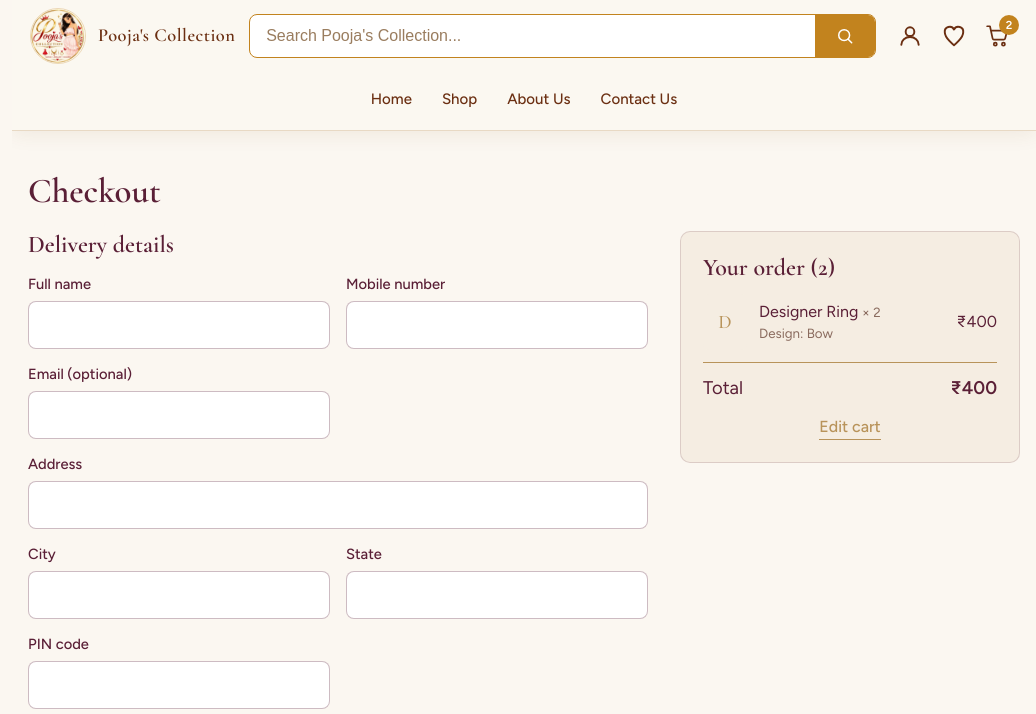
Test: products with designs › carries the design into the order
The width and height of the screenshot is (1036, 714).
Expected: the text "Design: Bow" is shown, [759, 325, 833, 341]
Type "Asha" into the field labelled "Full name". click: [179, 325]
box: [28, 301, 330, 349]
Type "9876543210" into the field labelled "Mobile number". click: [497, 325]
box: [346, 301, 648, 349]
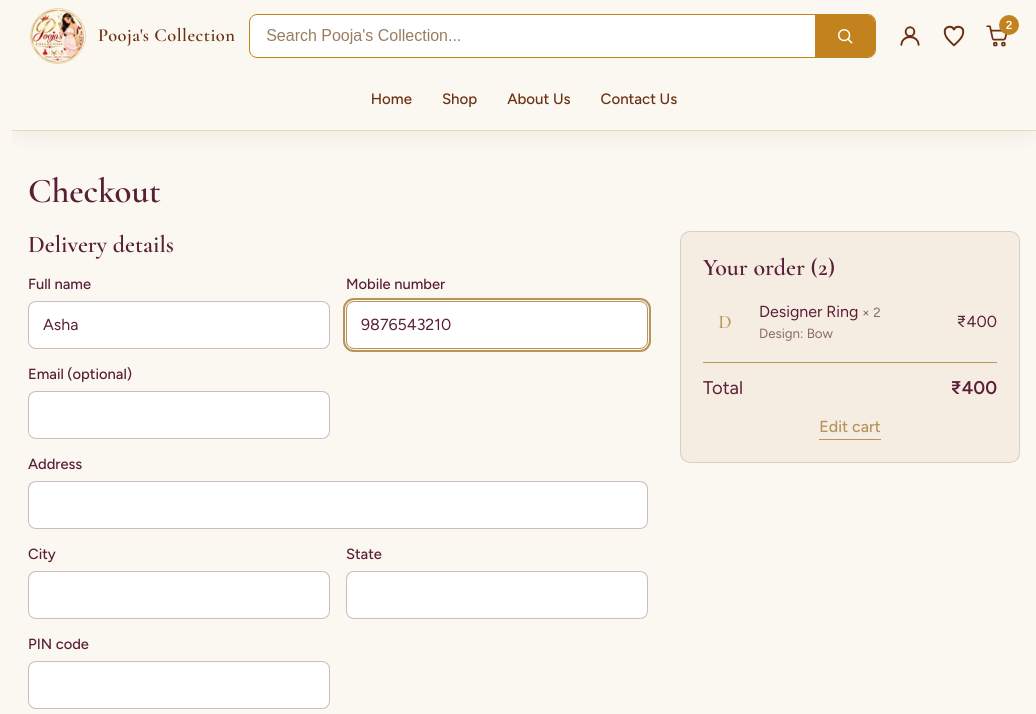
Type "1 St" into the field labelled "Address". click: [338, 505]
box: [28, 481, 648, 529]
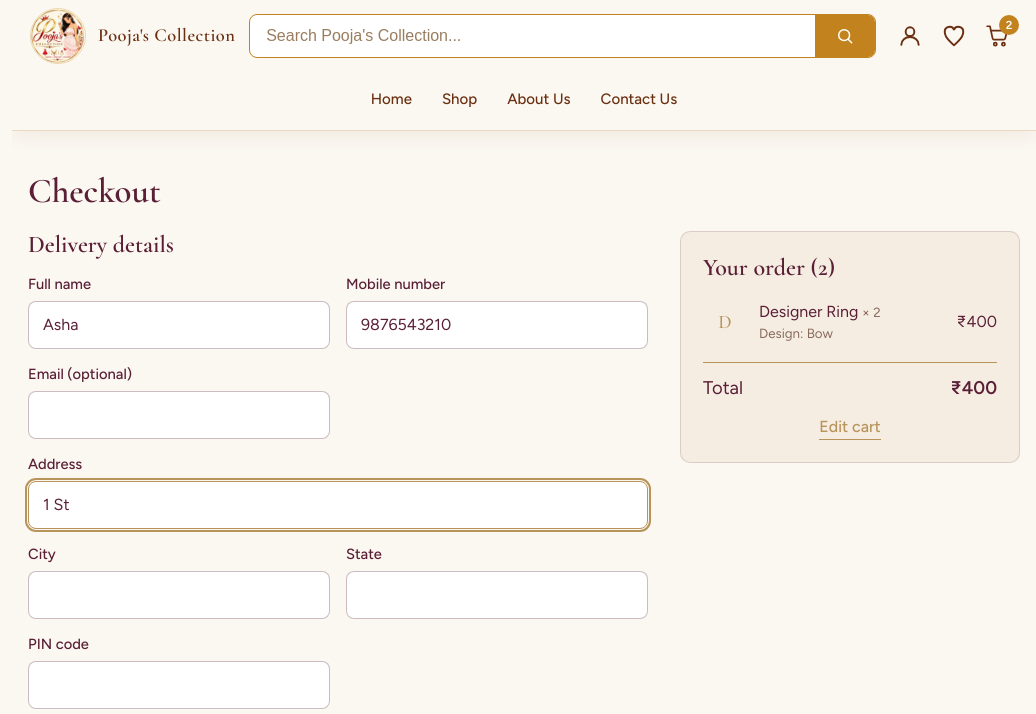
Type "Chennai" into the field labelled "City". click: [179, 595]
box: [28, 571, 330, 619]
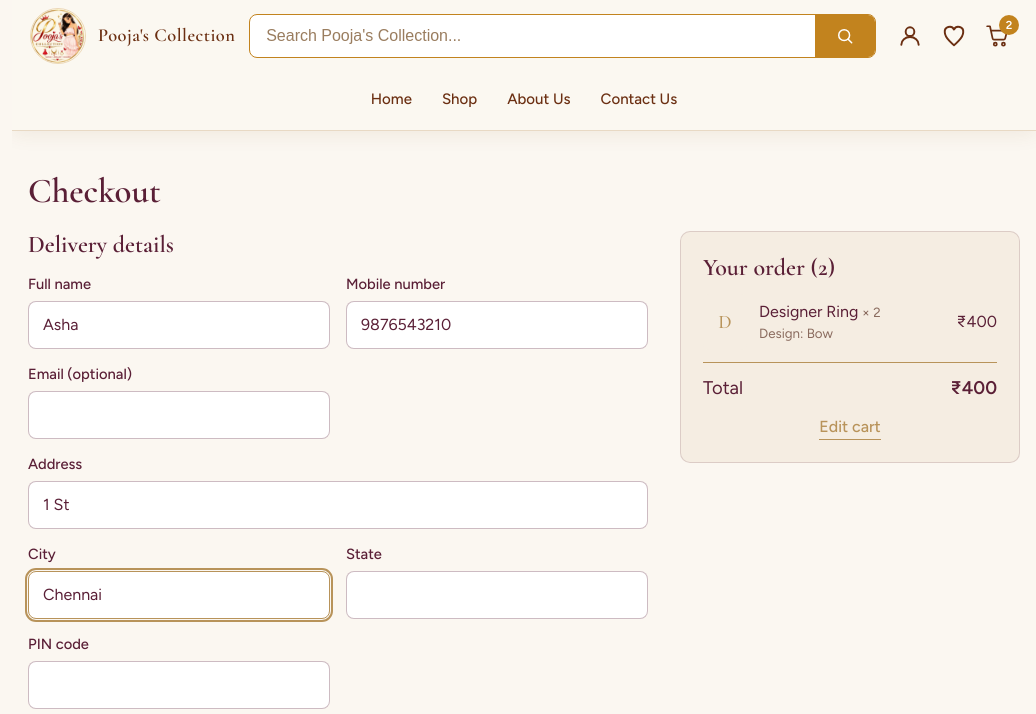
Type "TN" into the field labelled "State". click: [497, 595]
box: [346, 571, 648, 619]
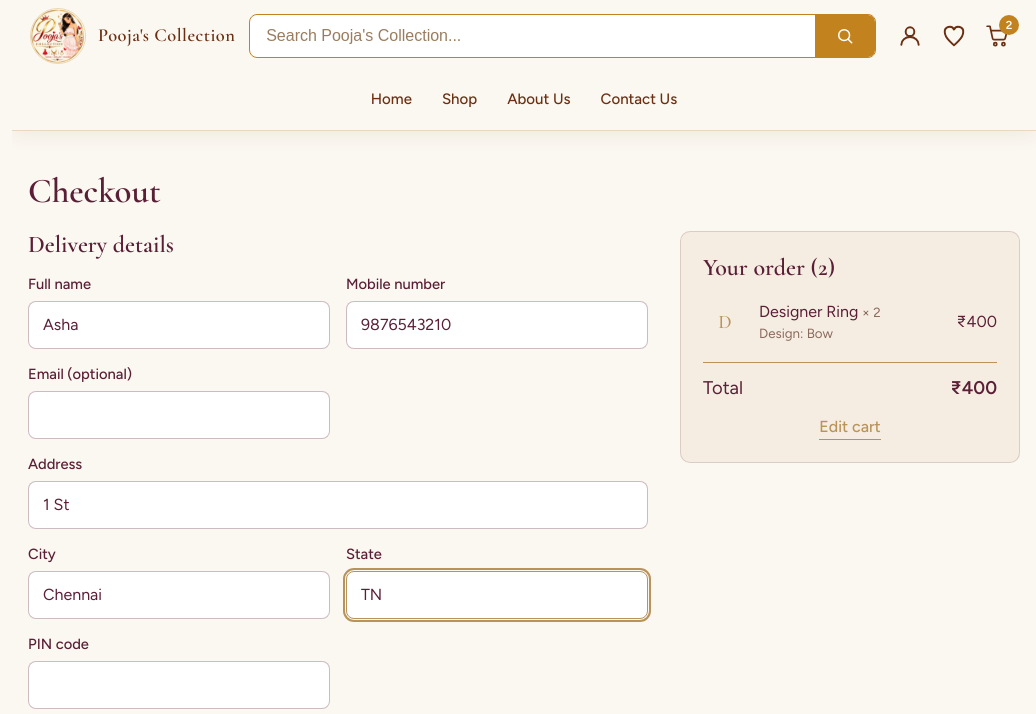
Type "600001" into the field labelled "PIN code". click: [179, 685]
box: [28, 661, 330, 709]
(page scrolled)
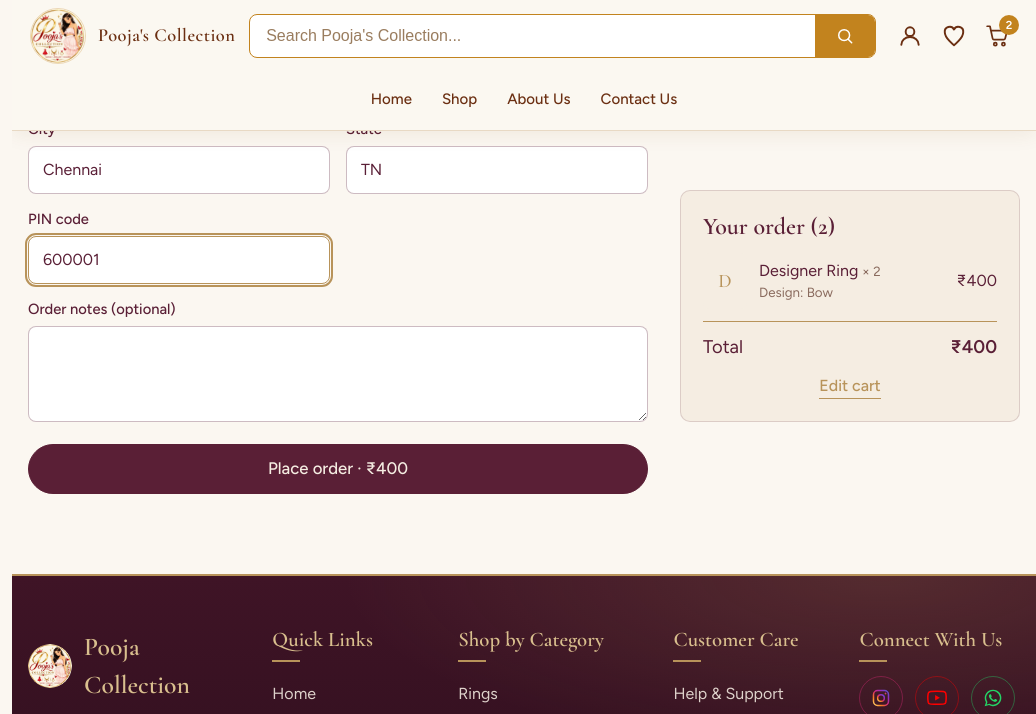
Click the button "Place order · ₹400". click: [338, 469]
box: [28, 444, 648, 494]
(page scrolled)
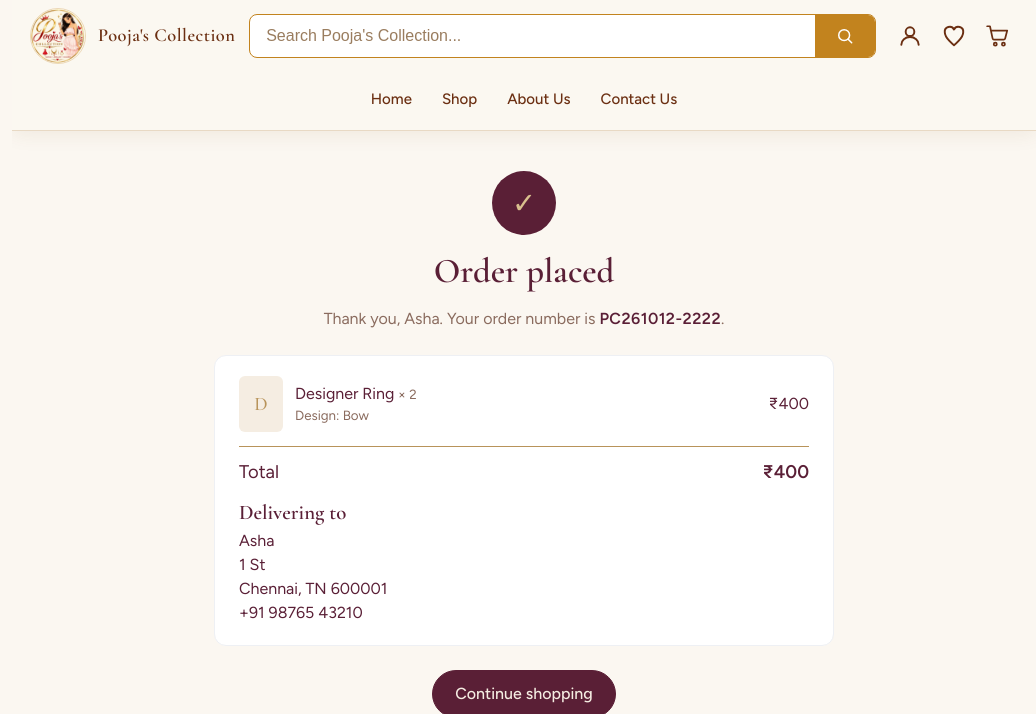
Expected: the text "Design: Bow" is shown, [295, 407, 369, 423]
Now the heading "Order placed" is shown, box [434, 250, 614, 292]
